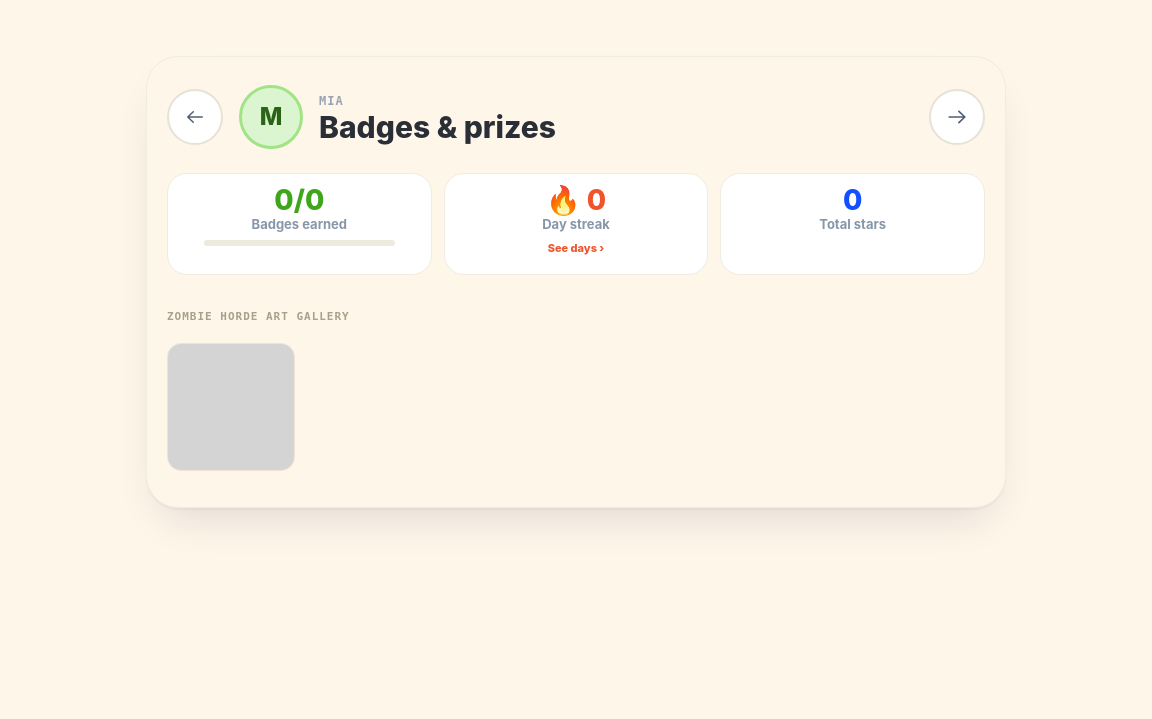
Test: BadgesView › explains empty insights and an empty streak for a new player
Click the button with aria-label "Day streak: 0. See the days you played".
click(576, 224)  # box [444,173,708,275]
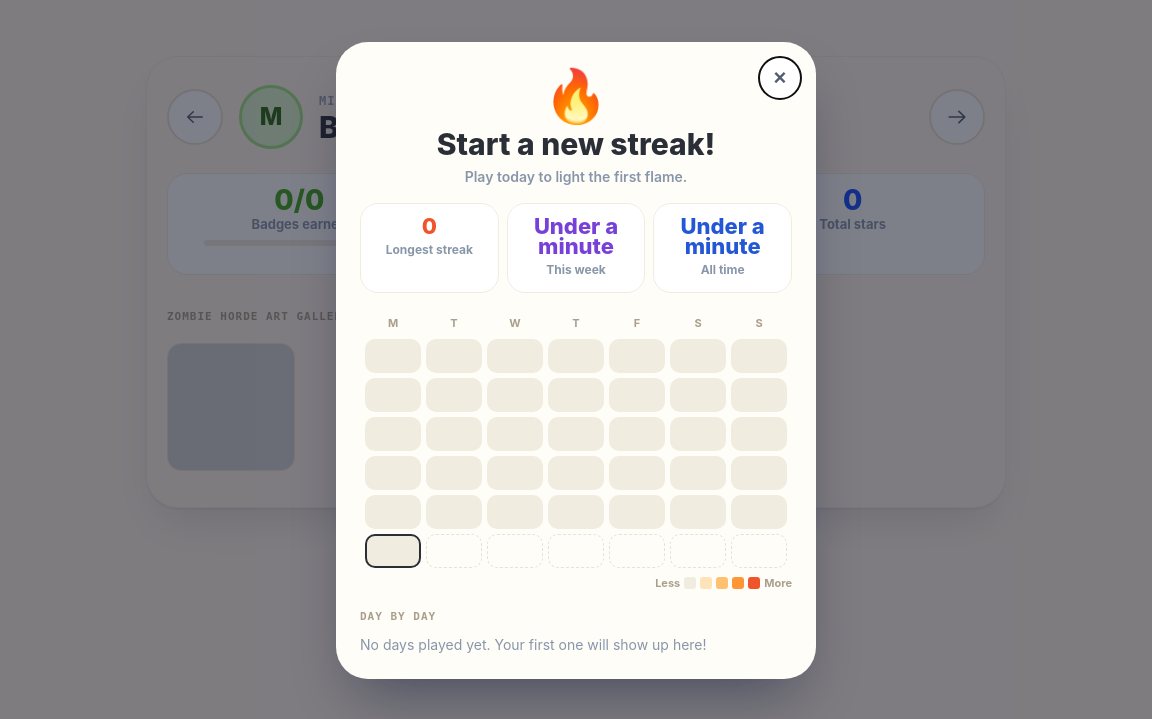
expect the heading "Start a new streak!" is shown: met, box [437,126,715,162]
expect the text "No days played yet. Your first one will show up here!" is shown: met, box [360,636,707,652]
Click the button named "Close".
click(780, 78)  # box [758,56,802,100]
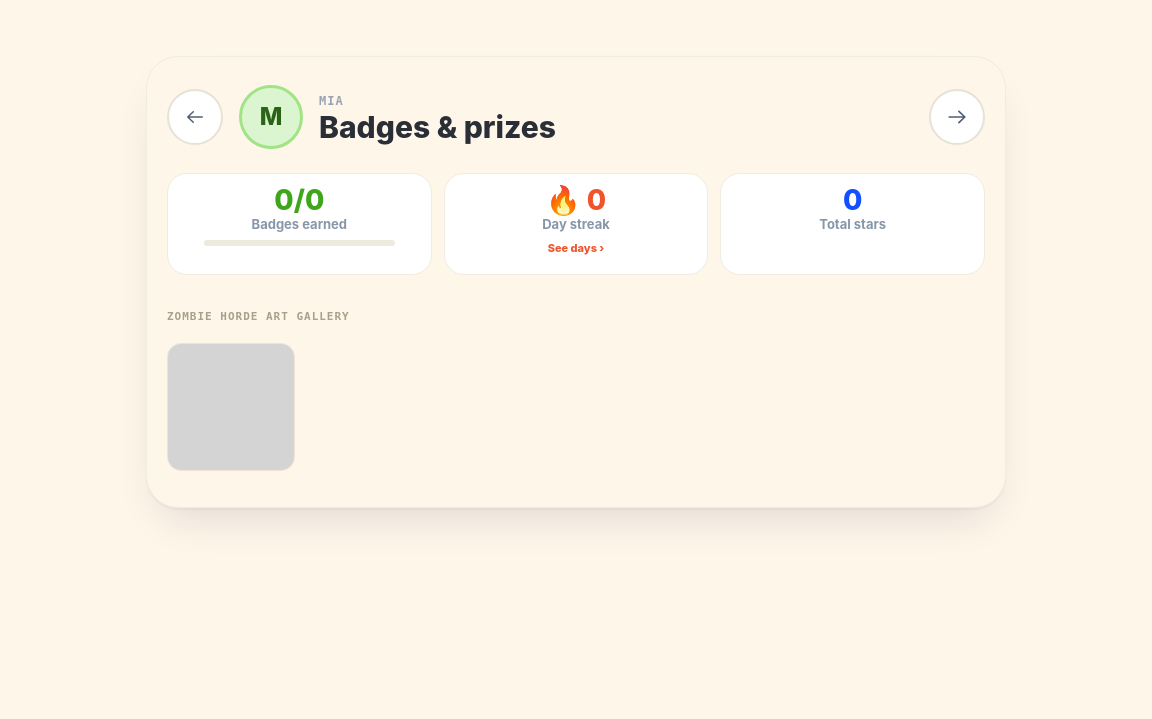
Click the button named "Switch to parent view".
click(957, 117)  # box [929,89,985,145]
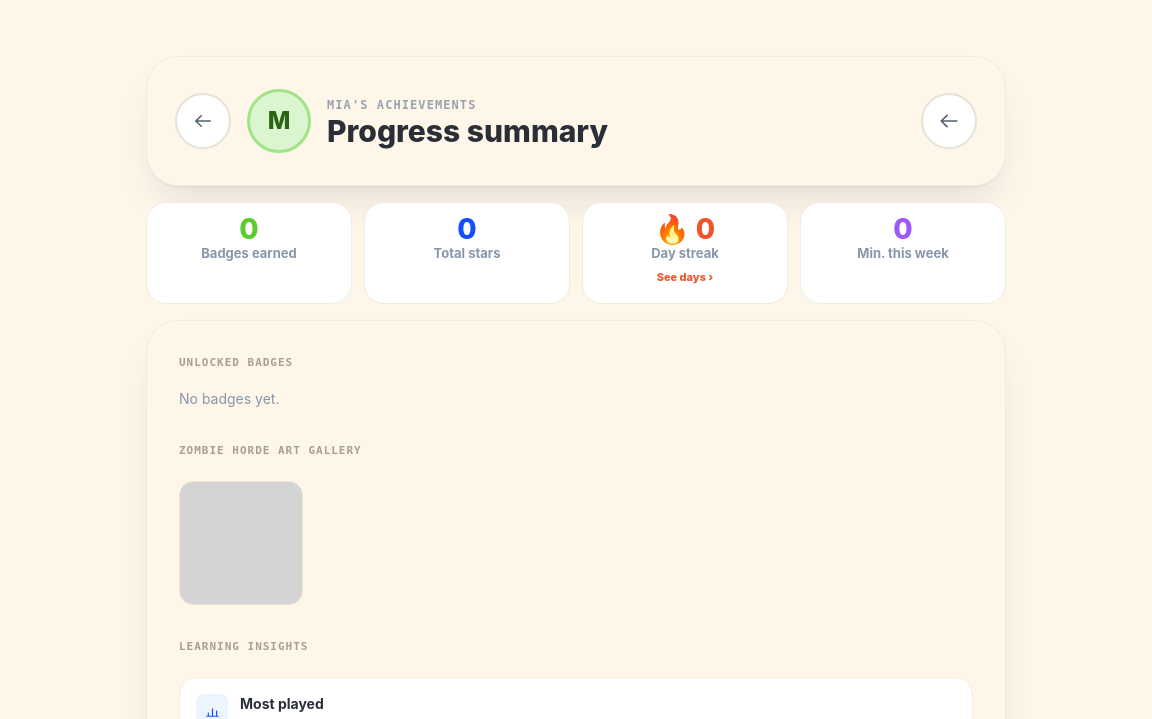
expect the text "No badges yet." is shown: met, box [179,390,280,407]
